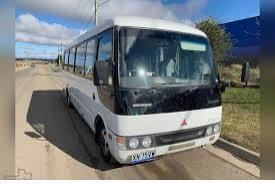bus: (61, 13, 221, 164)
